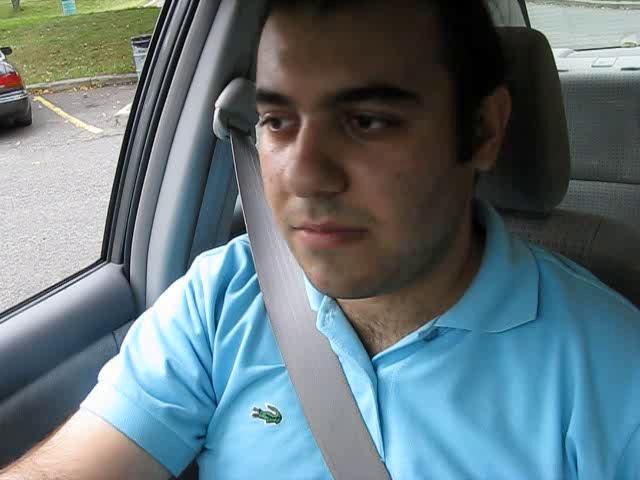no_yawn: (269, 203, 382, 262)
open_eyeL: (246, 98, 304, 145)
open_eyeR: (325, 88, 427, 151)
